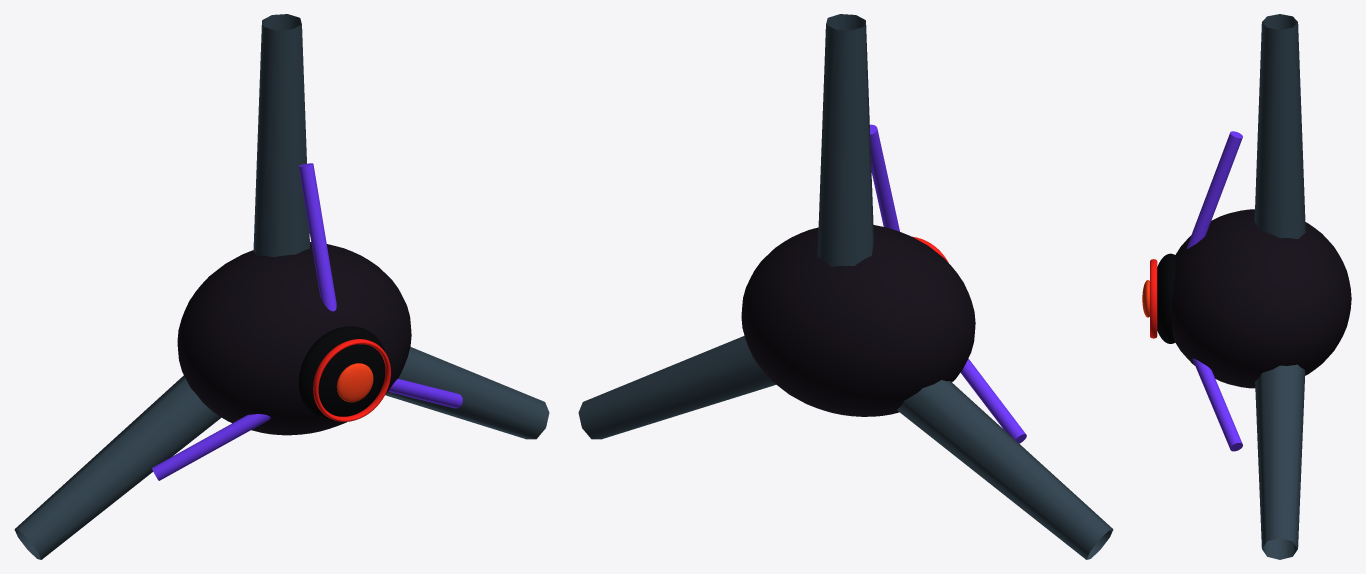
File: sentinel.obj
The picture shows the model from 3 angles, left to right: view 1: azimuth 30°, elevation 25°; view 2: azimuth 150°, elevation 25°; view 3: azimuth 270°, elevation 25°; orthographic projection. The views are drawn at different scales.
Visible parts, largest first — view 1: sphere_part_0, alien-shard_part_7, alien-shard_part_8, alien-shard_part_9, sphere_part_1, cylinder_part_4, cylinder_part_5, machined-collar_part_3, sphere_part_2, cylinder_part_6; view 2: sphere_part_0, alien-shard_part_7, alien-shard_part_8, alien-shard_part_9, cylinder_part_4, cylinder_part_5; view 3: sphere_part_0, alien-shard_part_7, alien-shard_part_9, cylinder_part_4, sphere_part_1, cylinder_part_6, machined-collar_part_3.
Part boxes in pixels (x1,y1,x2,y2): sphere_part_0: [177, 242, 411, 435]; alien-shard_part_7: [253, 14, 309, 257]; alien-shard_part_8: [14, 375, 221, 559]; alien-shard_part_9: [385, 347, 549, 439]; sphere_part_1: [298, 326, 385, 420]; cylinder_part_4: [298, 163, 336, 311]; cylinder_part_5: [152, 414, 270, 480]; machined-collar_part_3: [313, 339, 390, 421]; sphere_part_2: [336, 363, 373, 402]; cylinder_part_6: [388, 378, 462, 408]; sphere_part_0: [741, 225, 975, 416]; alien-shard_part_7: [817, 14, 873, 266]; alien-shard_part_8: [897, 380, 1113, 559]; alien-shard_part_9: [578, 336, 776, 439]; cylinder_part_4: [870, 124, 899, 231]; cylinder_part_5: [960, 358, 1026, 443]; sphere_part_0: [1172, 209, 1351, 388]; alien-shard_part_7: [1254, 14, 1305, 238]; alien-shard_part_9: [1255, 364, 1305, 559]; cylinder_part_4: [1186, 131, 1242, 248]; sphere_part_1: [1157, 253, 1176, 343]; cylinder_part_6: [1192, 358, 1242, 451]; machined-collar_part_3: [1150, 259, 1157, 338].
Bounding box in the file's own units: 2.91 × 2.52 × 1.11.
